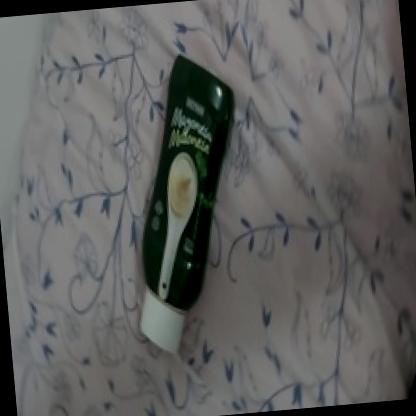plastic_bottles: (122, 52, 247, 364)
